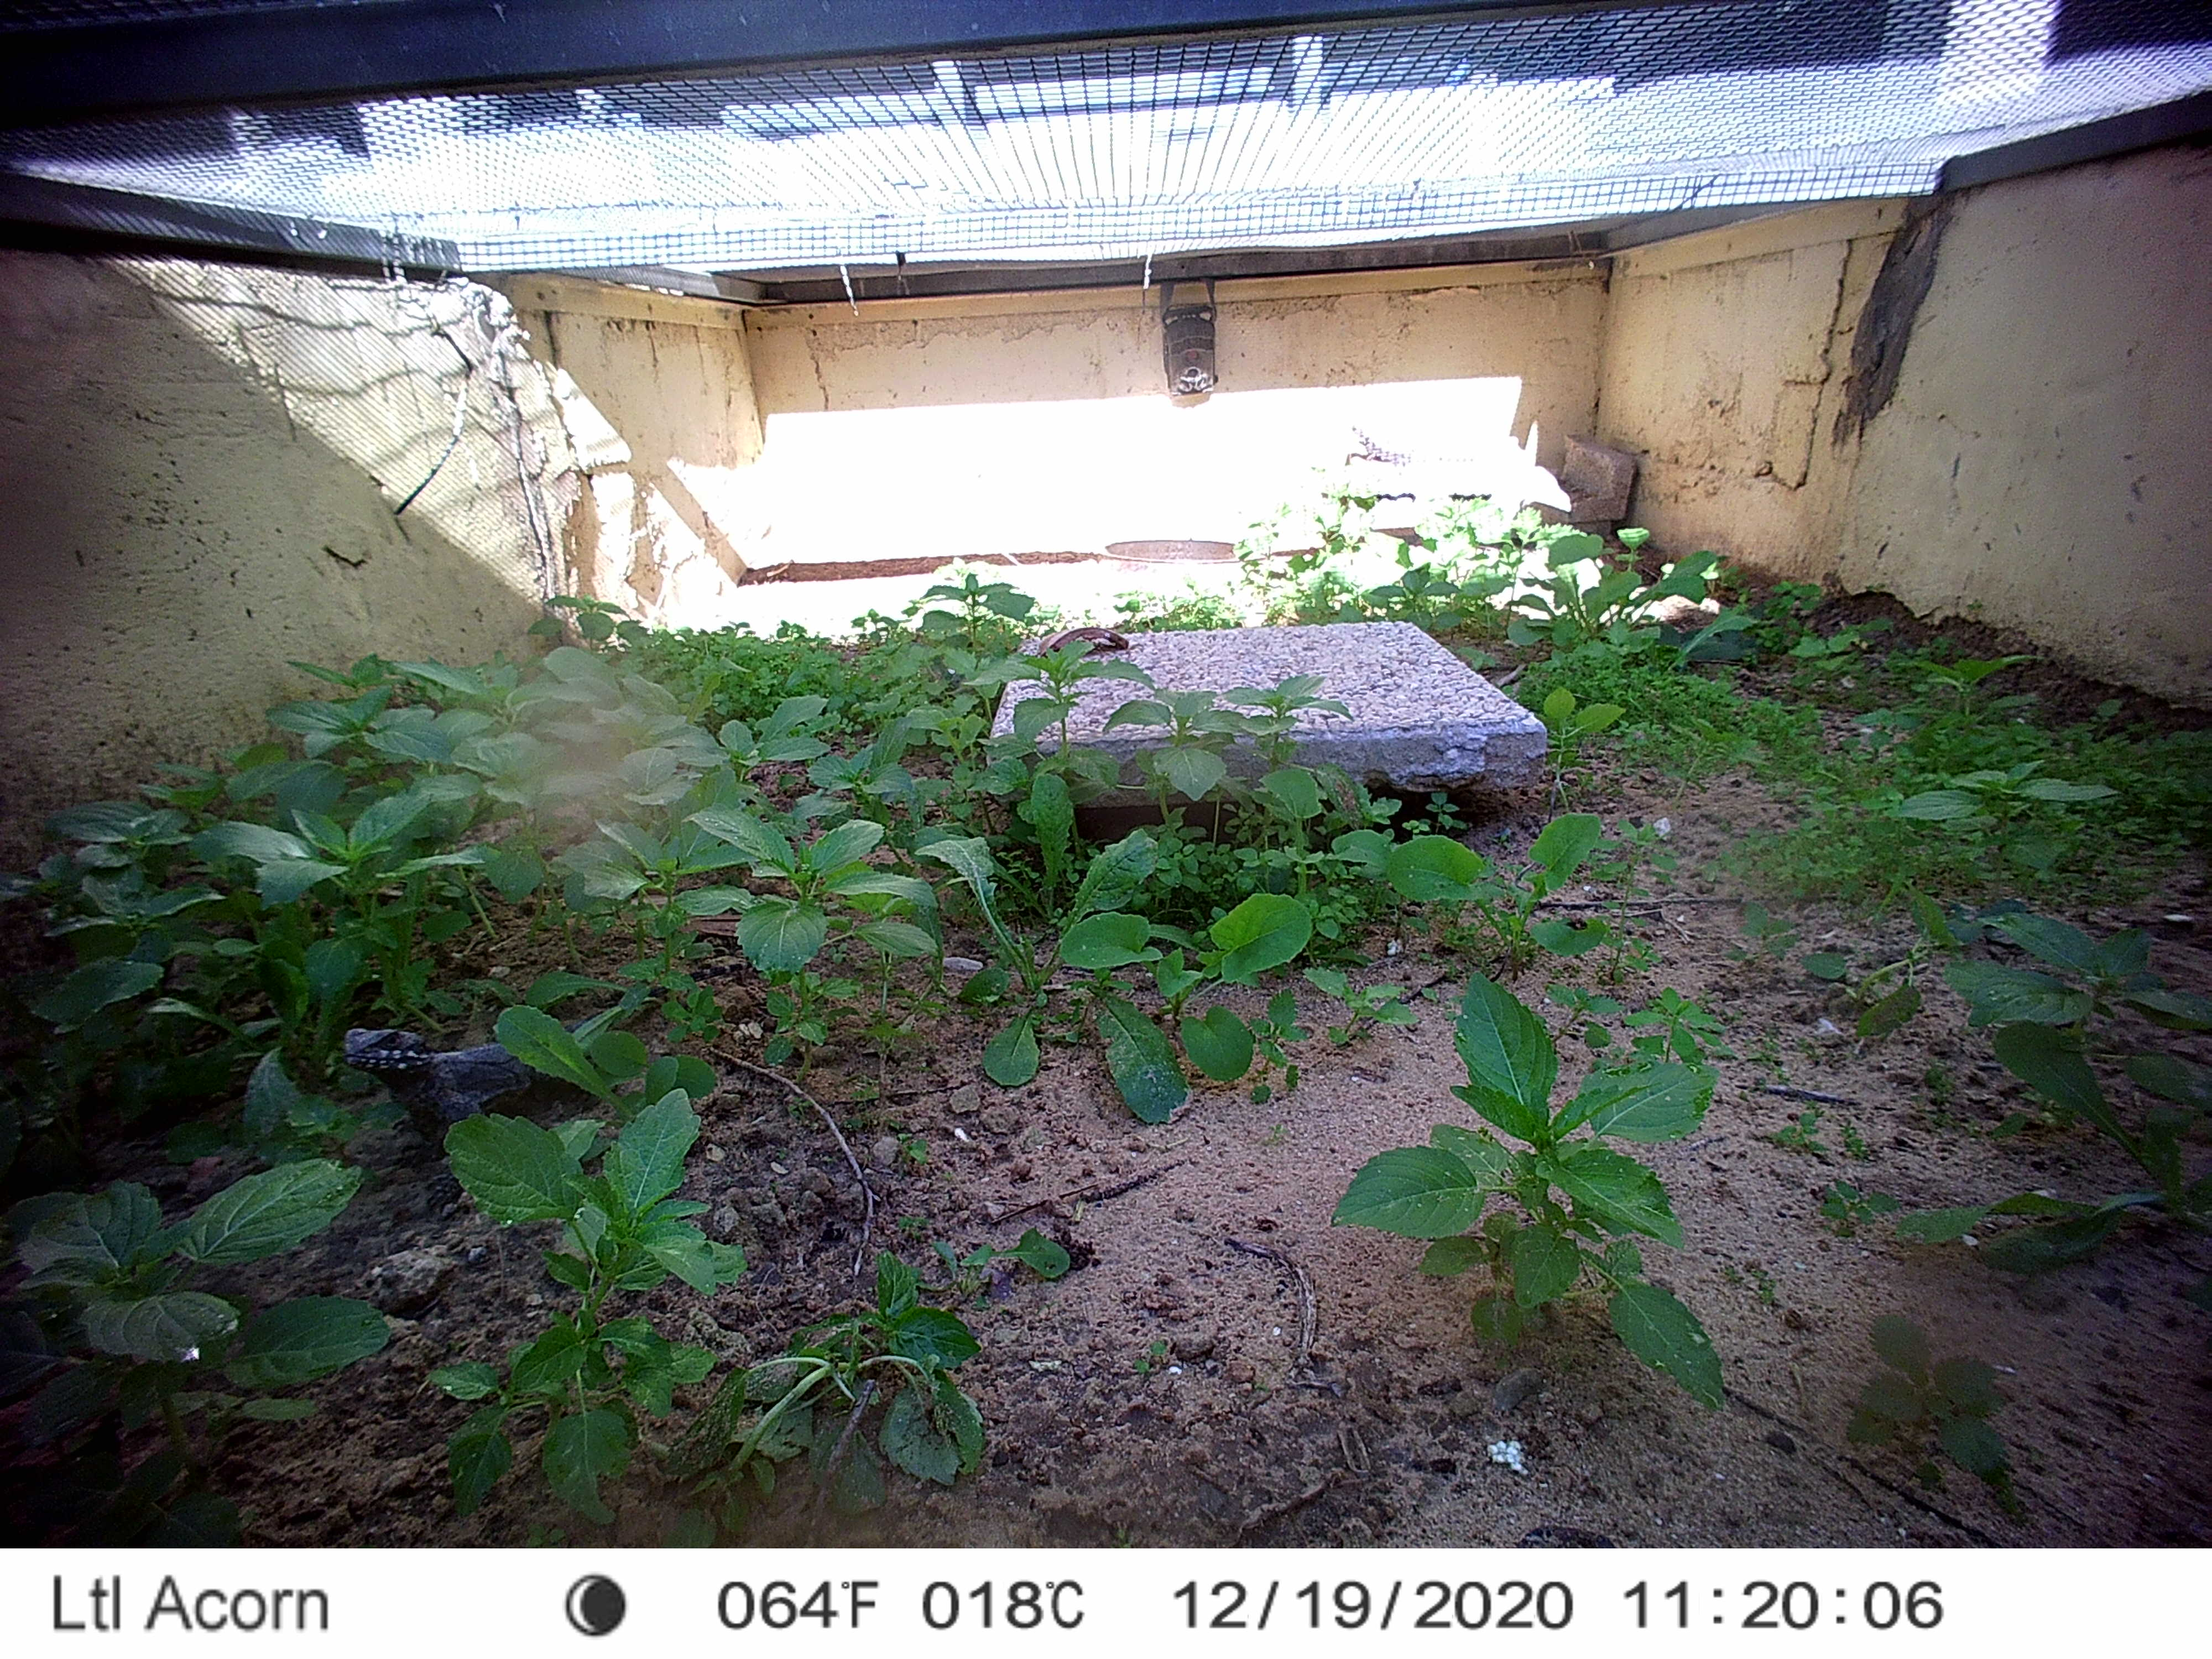lizard: (333, 1014, 610, 1157), (1341, 415, 1437, 469)
